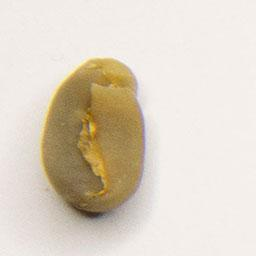premium: (37, 53, 150, 217)
